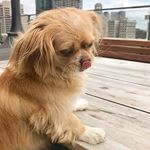puppy: (1, 4, 108, 150)
